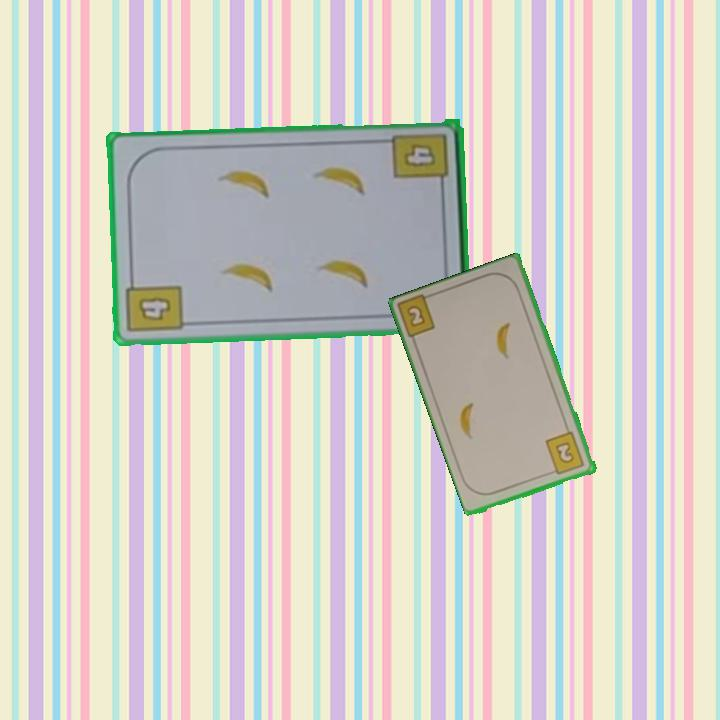2b: (542, 428, 587, 478), (403, 302, 428, 330)
4b: (123, 272, 186, 336), (389, 130, 452, 193)
